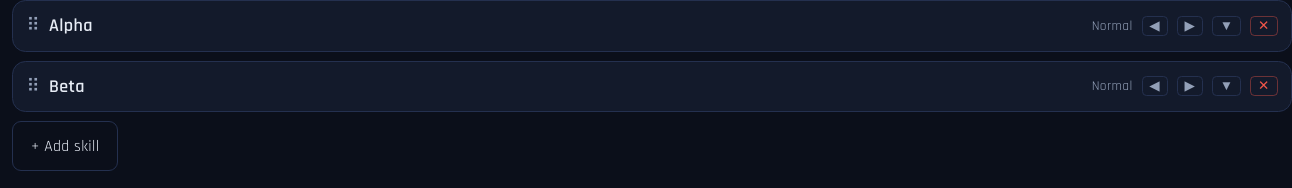
SkillTreeEditor › indent button nests a row under the one above
The image size is (1292, 188).
Step 1. Click the button named "Indent Beta" → [1190, 86], box [1177,76,1203,96]
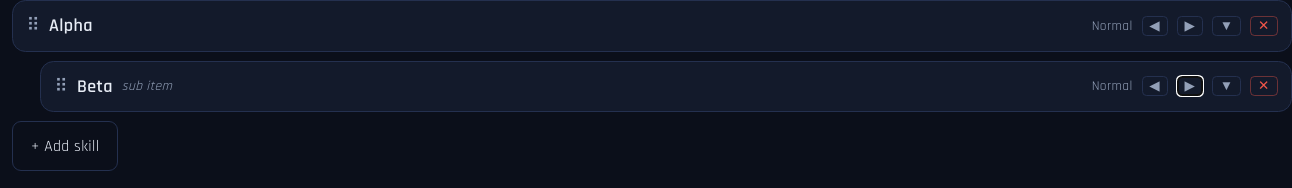
Check: the text "sub item" is shown, box [122,77,172,95]
